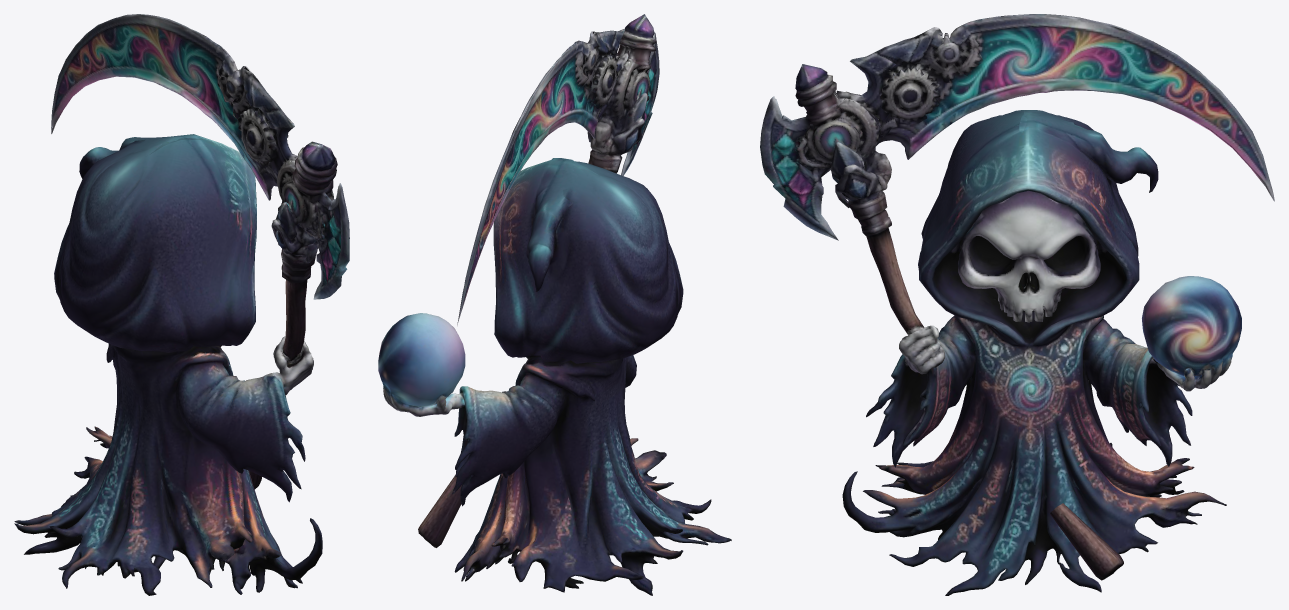
File: hooded+necromancer+3d+model.glb
3 views of the same model, side by side, from view 1: azimuth 30°, elevation 25°; view 2: azimuth 150°, elevation 25°; view 3: azimuth 270°, elevation 25° (orthographic). The views are drawn at different scales.
Visible parts, largest first — view 1: tripo_node_a38af41a-96a1-41fd-ae84-4a07a1255f49; view 2: tripo_node_a38af41a-96a1-41fd-ae84-4a07a1255f49; view 3: tripo_node_a38af41a-96a1-41fd-ae84-4a07a1255f49.
Boxes of the visible parts, left/top/right/bottom form: tripo_node_a38af41a-96a1-41fd-ae84-4a07a1255f49: left=14, top=14, right=349, bottom=595; tripo_node_a38af41a-96a1-41fd-ae84-4a07a1255f49: left=378, top=14, right=731, bottom=595; tripo_node_a38af41a-96a1-41fd-ae84-4a07a1255f49: left=760, top=14, right=1274, bottom=595.
Size of the model in its own units: 0.4961 by 0.9788 by 0.837.
1 material, 1 textured.
